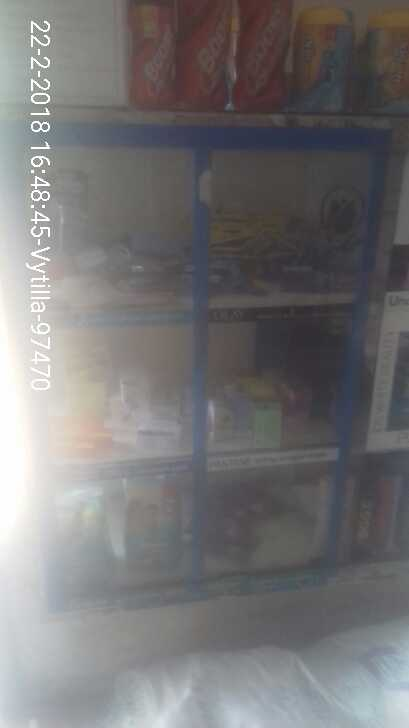gillete: (193, 224, 270, 291)
venus: (33, 169, 84, 272)
